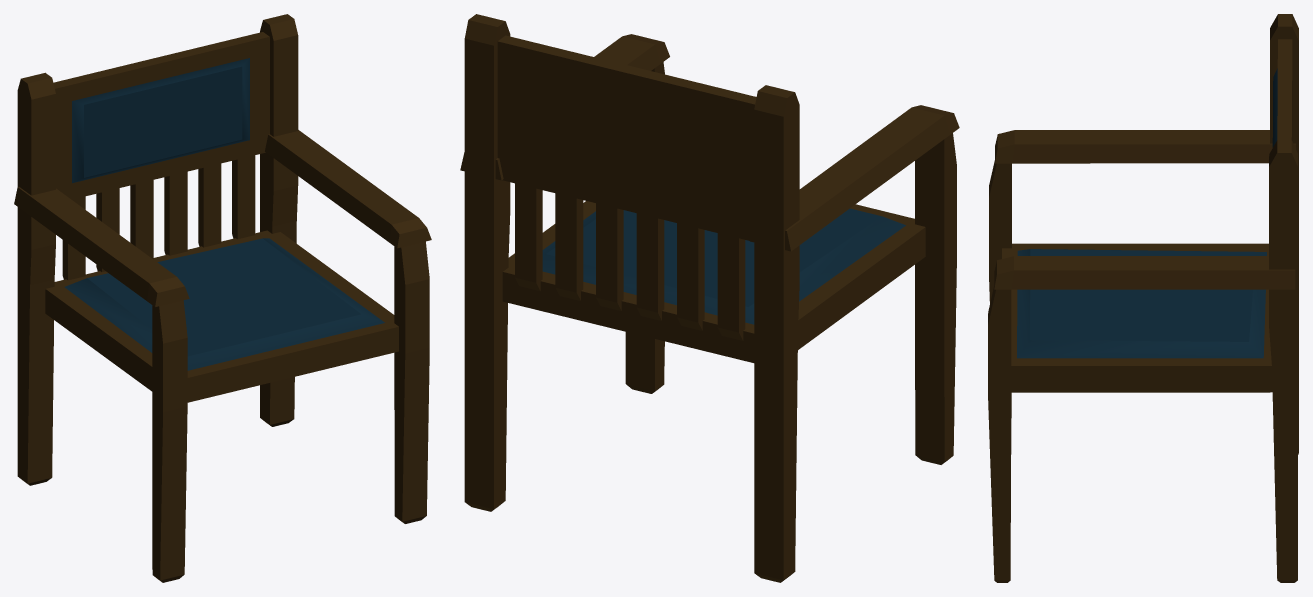
Rendered from CHAIRSET.obj.
3 views of the same model, side by side, from view 1: azimuth 30°, elevation 25°; view 2: azimuth 150°, elevation 25°; view 3: azimuth 270°, elevation 25° (orthographic). The views are drawn at different scales.
Parts seen in each view (by area): view 1: Cube.178_Cube.061; view 2: Cube.178_Cube.061; view 3: Cube.178_Cube.061.
Boxes of the visible parts, bbox=[...] form: Cube.178_Cube.061: bbox=[14, 14, 431, 582]; Cube.178_Cube.061: bbox=[460, 14, 959, 582]; Cube.178_Cube.061: bbox=[988, 14, 1298, 582].
Size of the model in its own units: 1.25 by 1.74 by 1.14.
